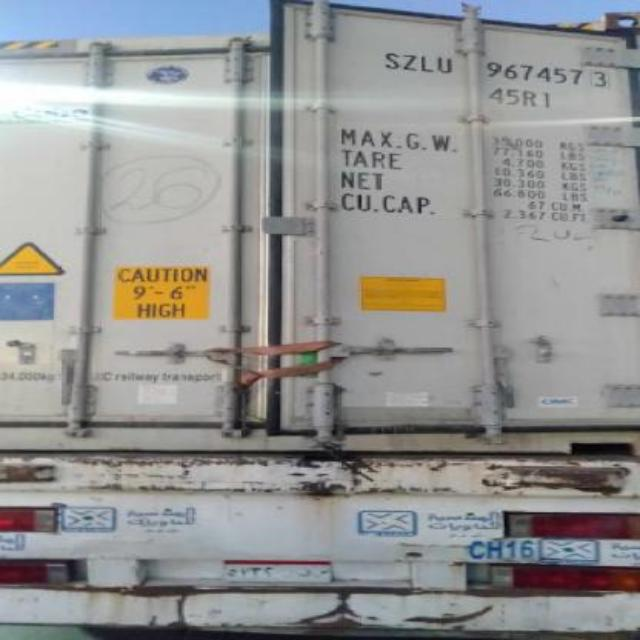3: (592, 70, 608, 86)
4: (536, 63, 554, 81)
5: (552, 66, 568, 84)
6: (504, 63, 520, 79)
7: (568, 67, 584, 85), (520, 64, 534, 80)
9: (488, 60, 500, 76)
L: (421, 53, 434, 73)
S: (384, 51, 402, 71)
U: (438, 55, 456, 73)
Z: (400, 50, 418, 70)
